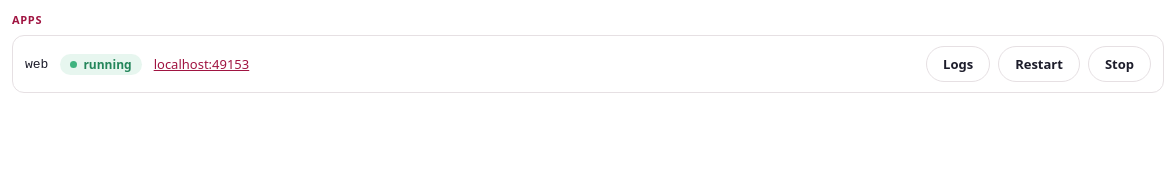
Test case: AppsSection › Logs shows the lines as text in a monospaced block, and hides again
Click the button "Logs".
click(958, 64)  # box x1=926 y1=46 x2=990 y2=82
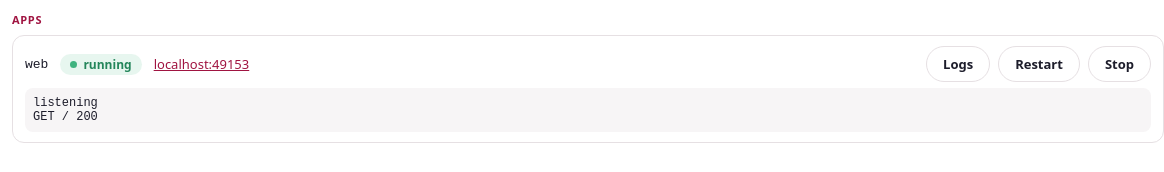
Click the button "Logs".
click(958, 64)  # box x1=926 y1=46 x2=990 y2=82
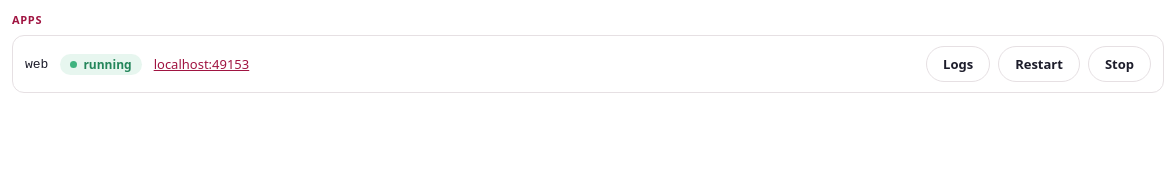
Expected: the text "listening" is gone
